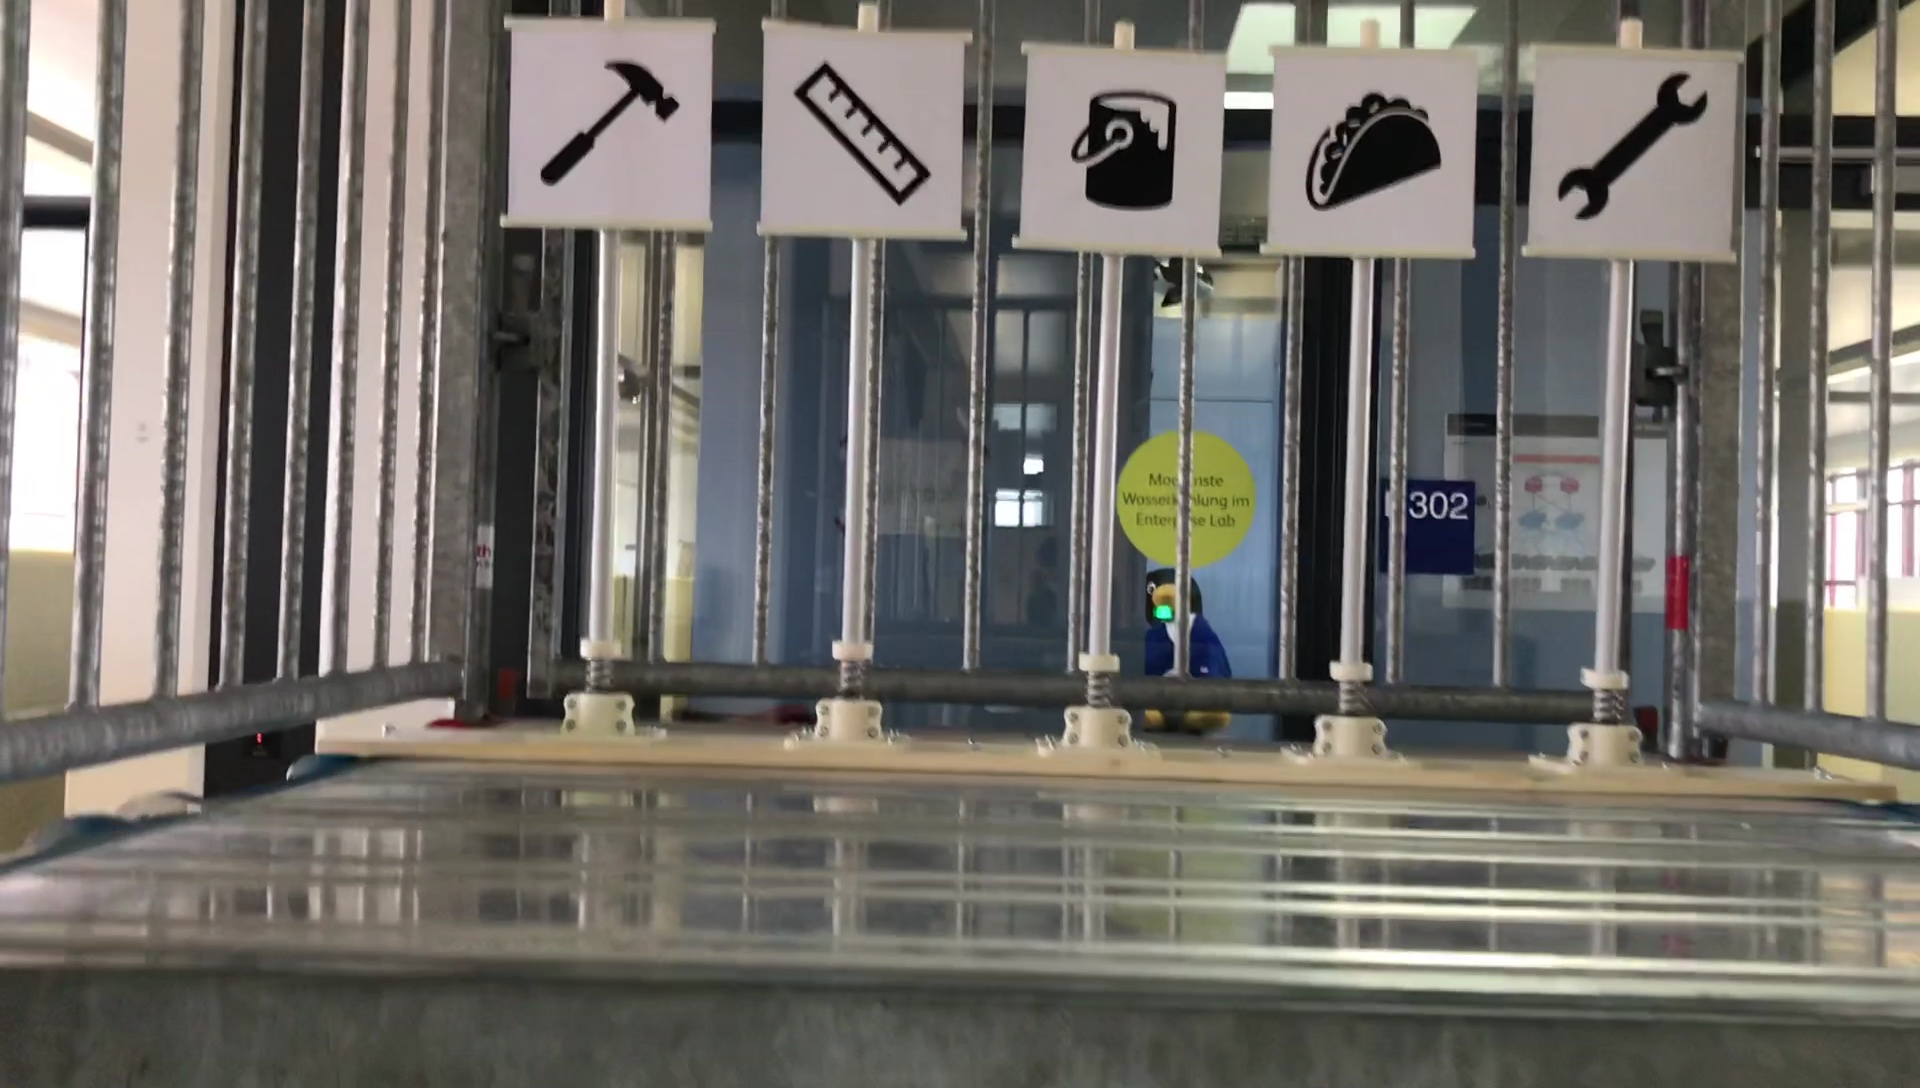bucket: (1069, 84, 1184, 210)
edge: (3, 957, 1920, 1088)
hammer: (535, 51, 679, 195)
ruler: (794, 54, 930, 207)
taco: (1305, 87, 1447, 216)
wrench: (1549, 67, 1713, 223)
